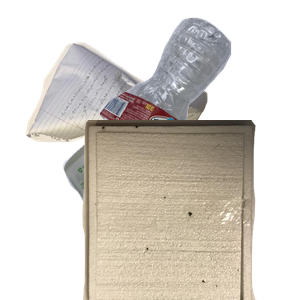glass: (60, 120, 300, 300)
paper: (23, 40, 223, 180)
plastic: (96, 15, 300, 184)
trash: (80, 120, 300, 300)
